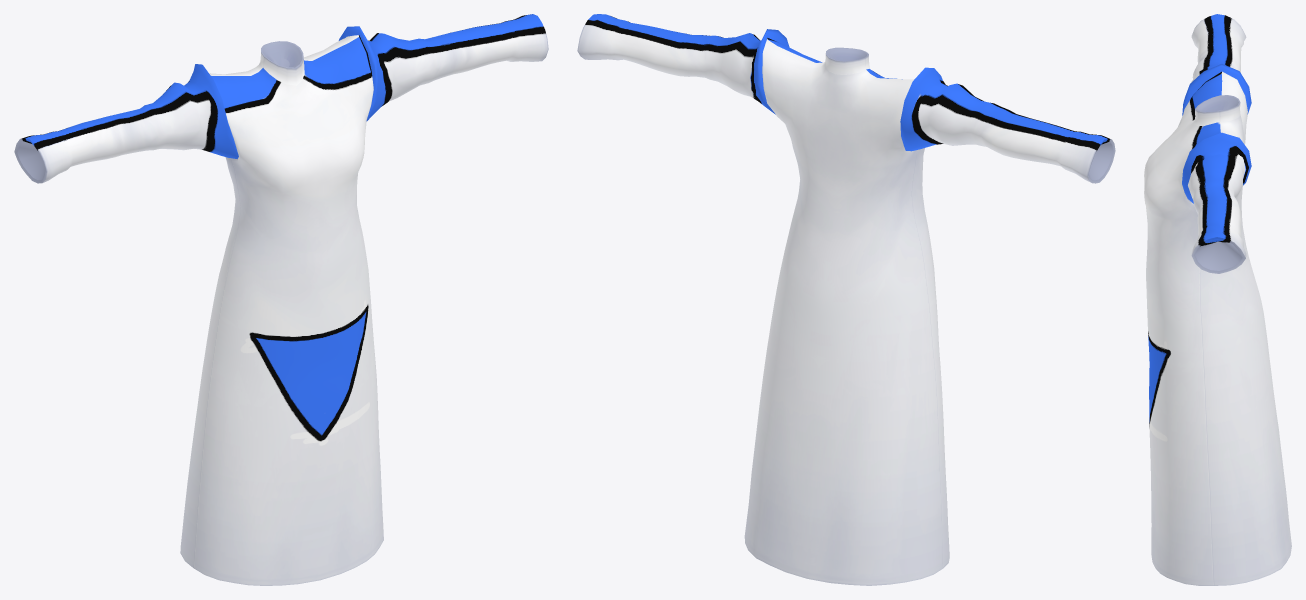
File: chest-knight.glb
3 renders of one model, left to right at view 1: azimuth 30°, elevation 25°; view 2: azimuth 150°, elevation 25°; view 3: azimuth 270°, elevation 25°, orthographic. The views are drawn at different scales.
Parts seen in each view (by area): view 1: chest-knight; view 2: chest-knight; view 3: chest-knight.
Boxes of the visible parts, <box> form: chest-knight: <box>14,14,548,585</box>; chest-knight: <box>577,14,1115,585</box>; chest-knight: <box>1144,14,1291,585</box>.
Bounding box in the file's own units: 1.26 × 1.2 × 0.3524.
Materials: 1 (1 with a texture image).
